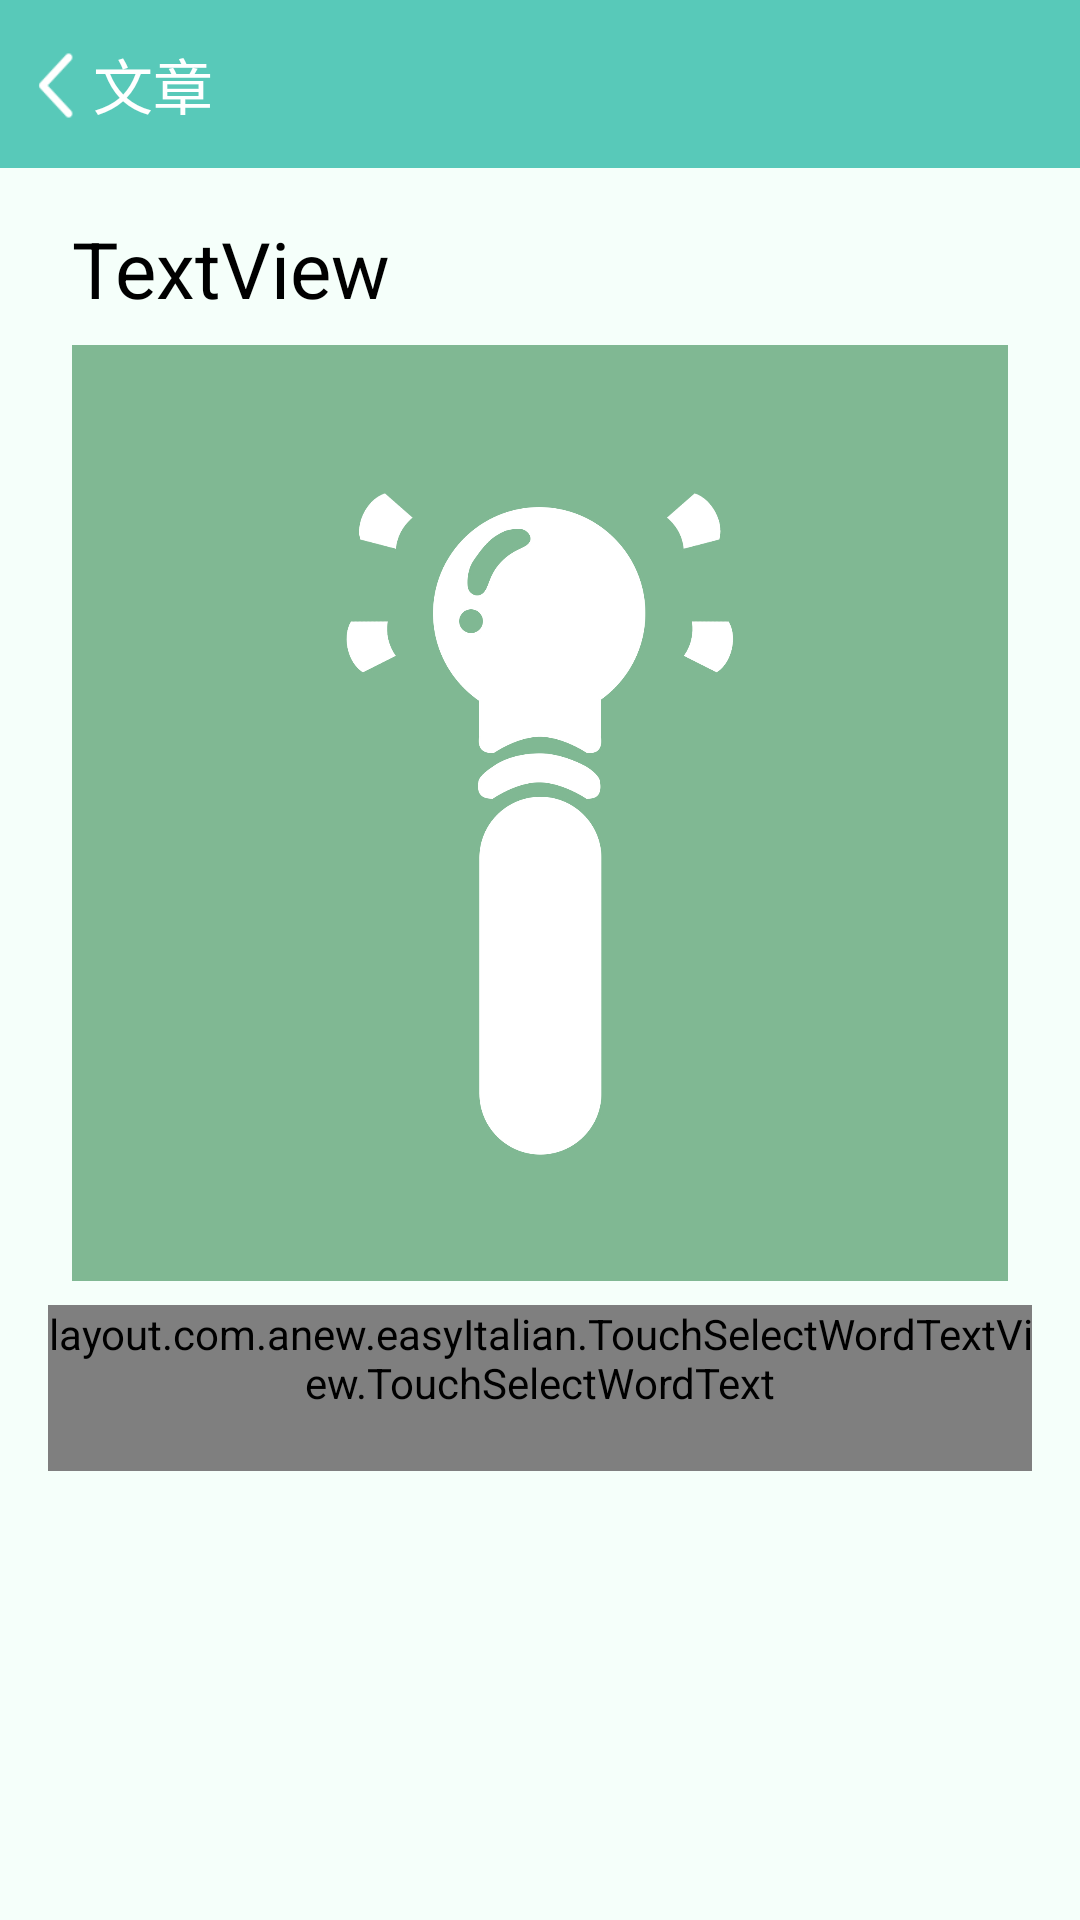

Where icons sit on this 1080px x 1920px app screen, as bbox(x1, y1, x2, y2):
back: bbox(39, 53, 73, 118)
